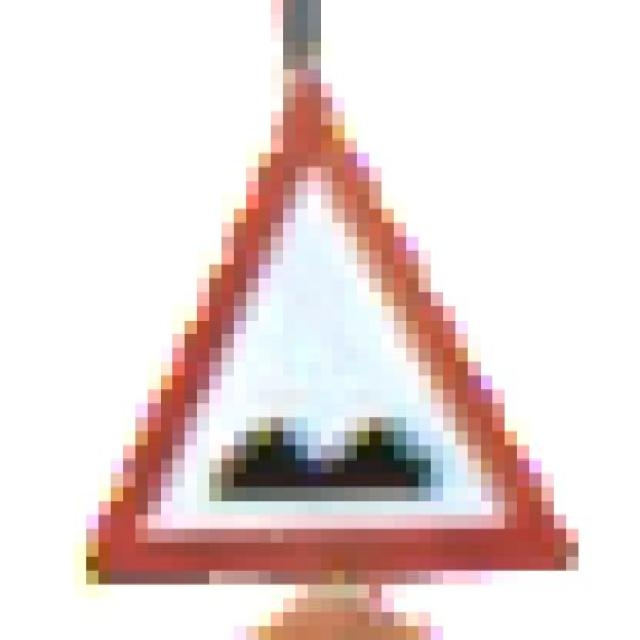Uneven Road: (86, 83, 579, 585)
